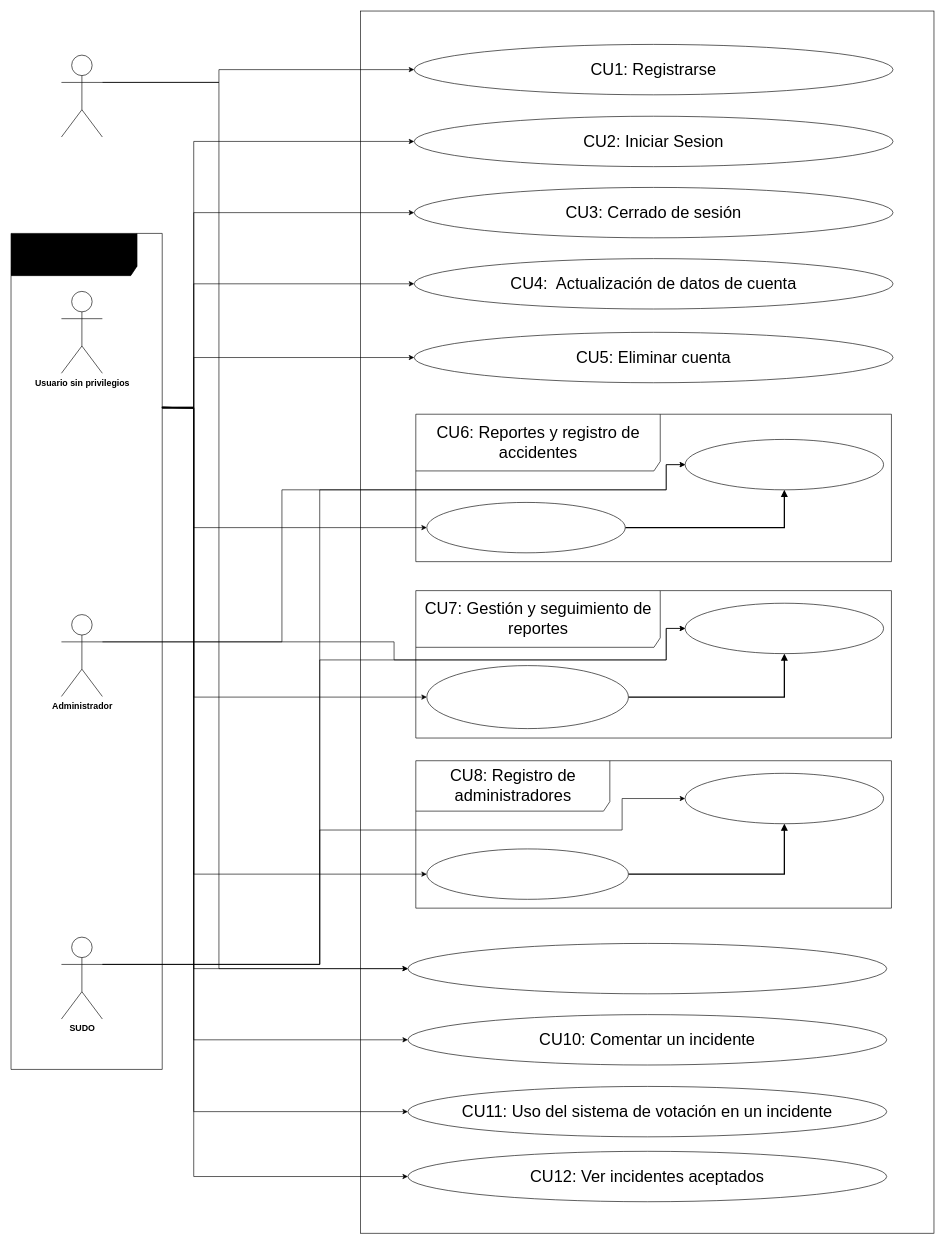
This 945x1244 diagram has some shape labels left out. The centre of each missing label's shape, as x and y in pixels:
"Cambio de estado" belongs at point 784,628.
"Cambio de rol a administradoor" belongs at point 784,798.
"Creación de incidente" belongs at point 784,464.
"CU9: Filtrado de incidentes" belongs at point 647,968.
"Reporte de cambio de estado de incidente" belongs at point 527,697.
"Reporte de incidente" belongs at point 525,527.
"Solicitud de promoción de rol" belongs at point 527,873.
"Usuario sin sesión activa, o registrada" belongs at point 81,95.
